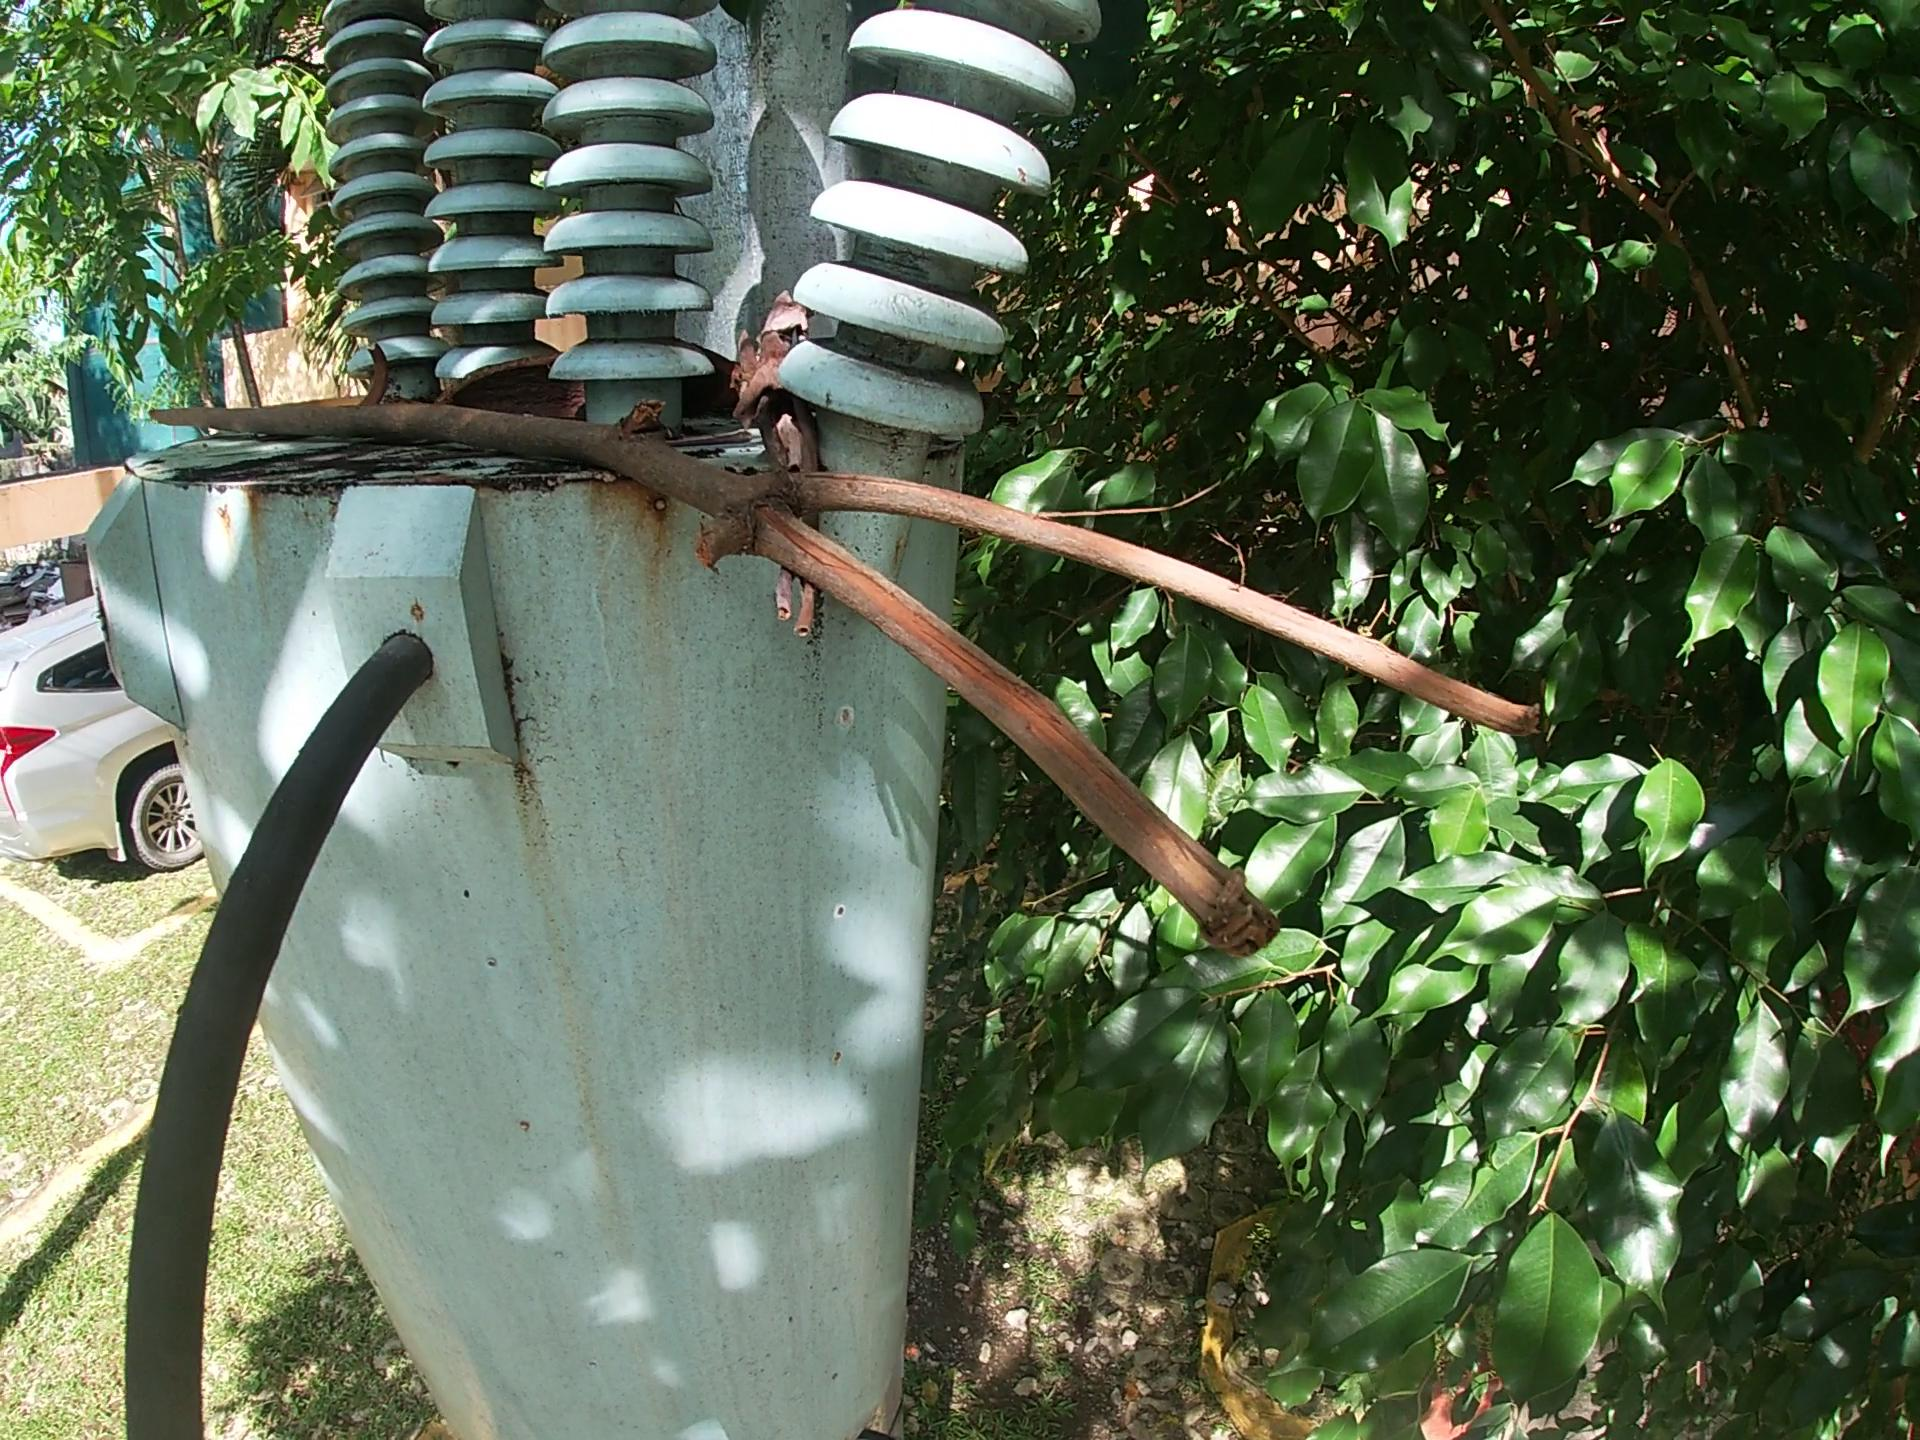mahogany fruit: (432, 339, 745, 433), (357, 342, 393, 401)
tree branch: (138, 371, 1553, 964), (727, 284, 833, 647)
